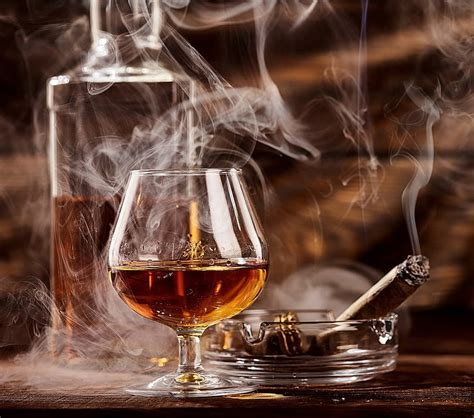alcohol: (36, 0, 198, 365), (106, 168, 271, 399)
cigarette: (308, 254, 433, 358)
